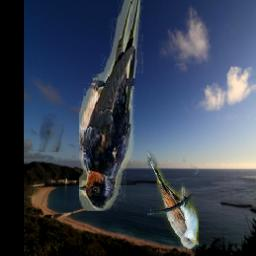Cuckoo: (147, 150, 199, 249)
Swallow: (78, 0, 142, 212)
Woodpecker: (40, 43, 69, 152)
